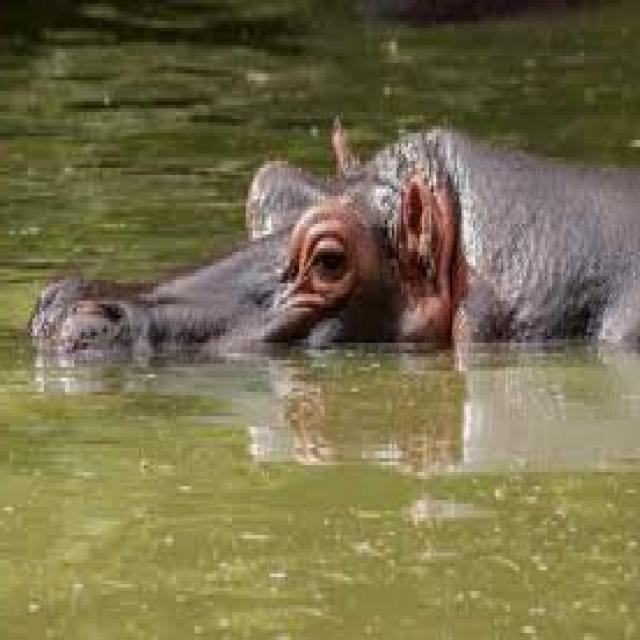hippopotamus: (30, 119, 640, 367)
